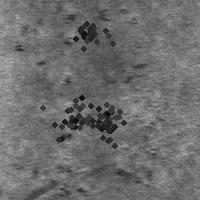rolled-in_scale: (102, 60, 168, 192), (40, 84, 108, 152), (18, 151, 87, 197), (82, 98, 126, 142), (67, 12, 109, 54)
